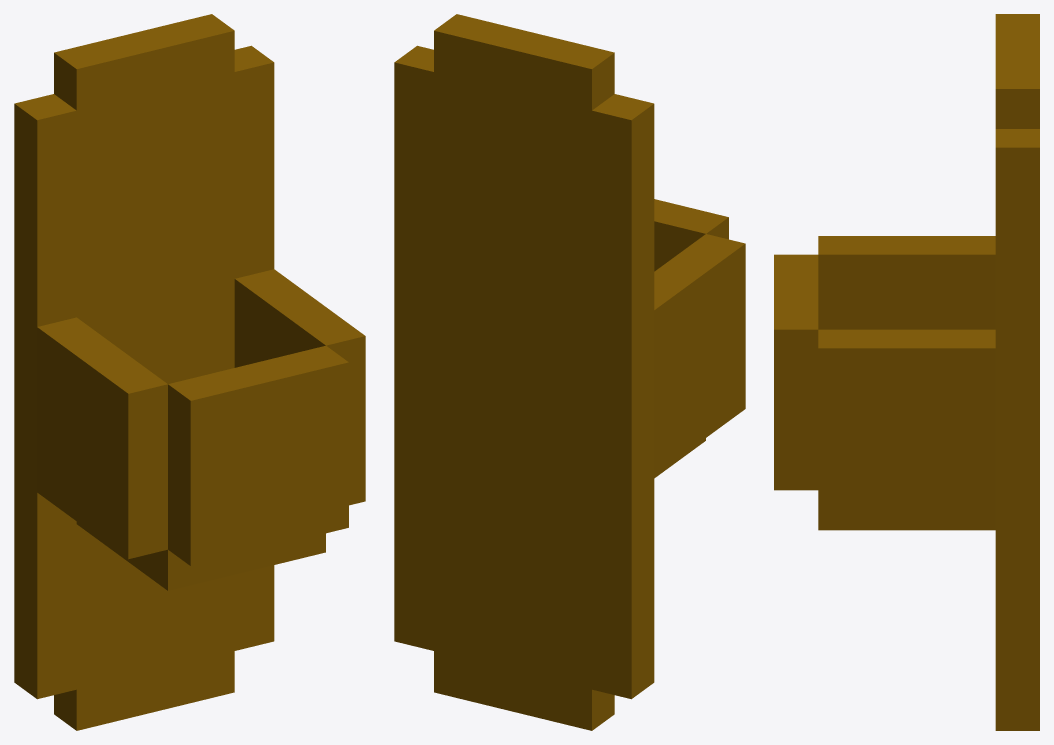
Rendered from Candelabro.obj.
The picture shows the model from 3 angles, left to right: view 1: azimuth 30°, elevation 25°; view 2: azimuth 150°, elevation 25°; view 3: azimuth 270°, elevation 25°; orthographic projection. The views are drawn at different scales.
Bounding box in the file's own units: 0.6 × 1.6 × 0.6.
1 material, 1 textured.
